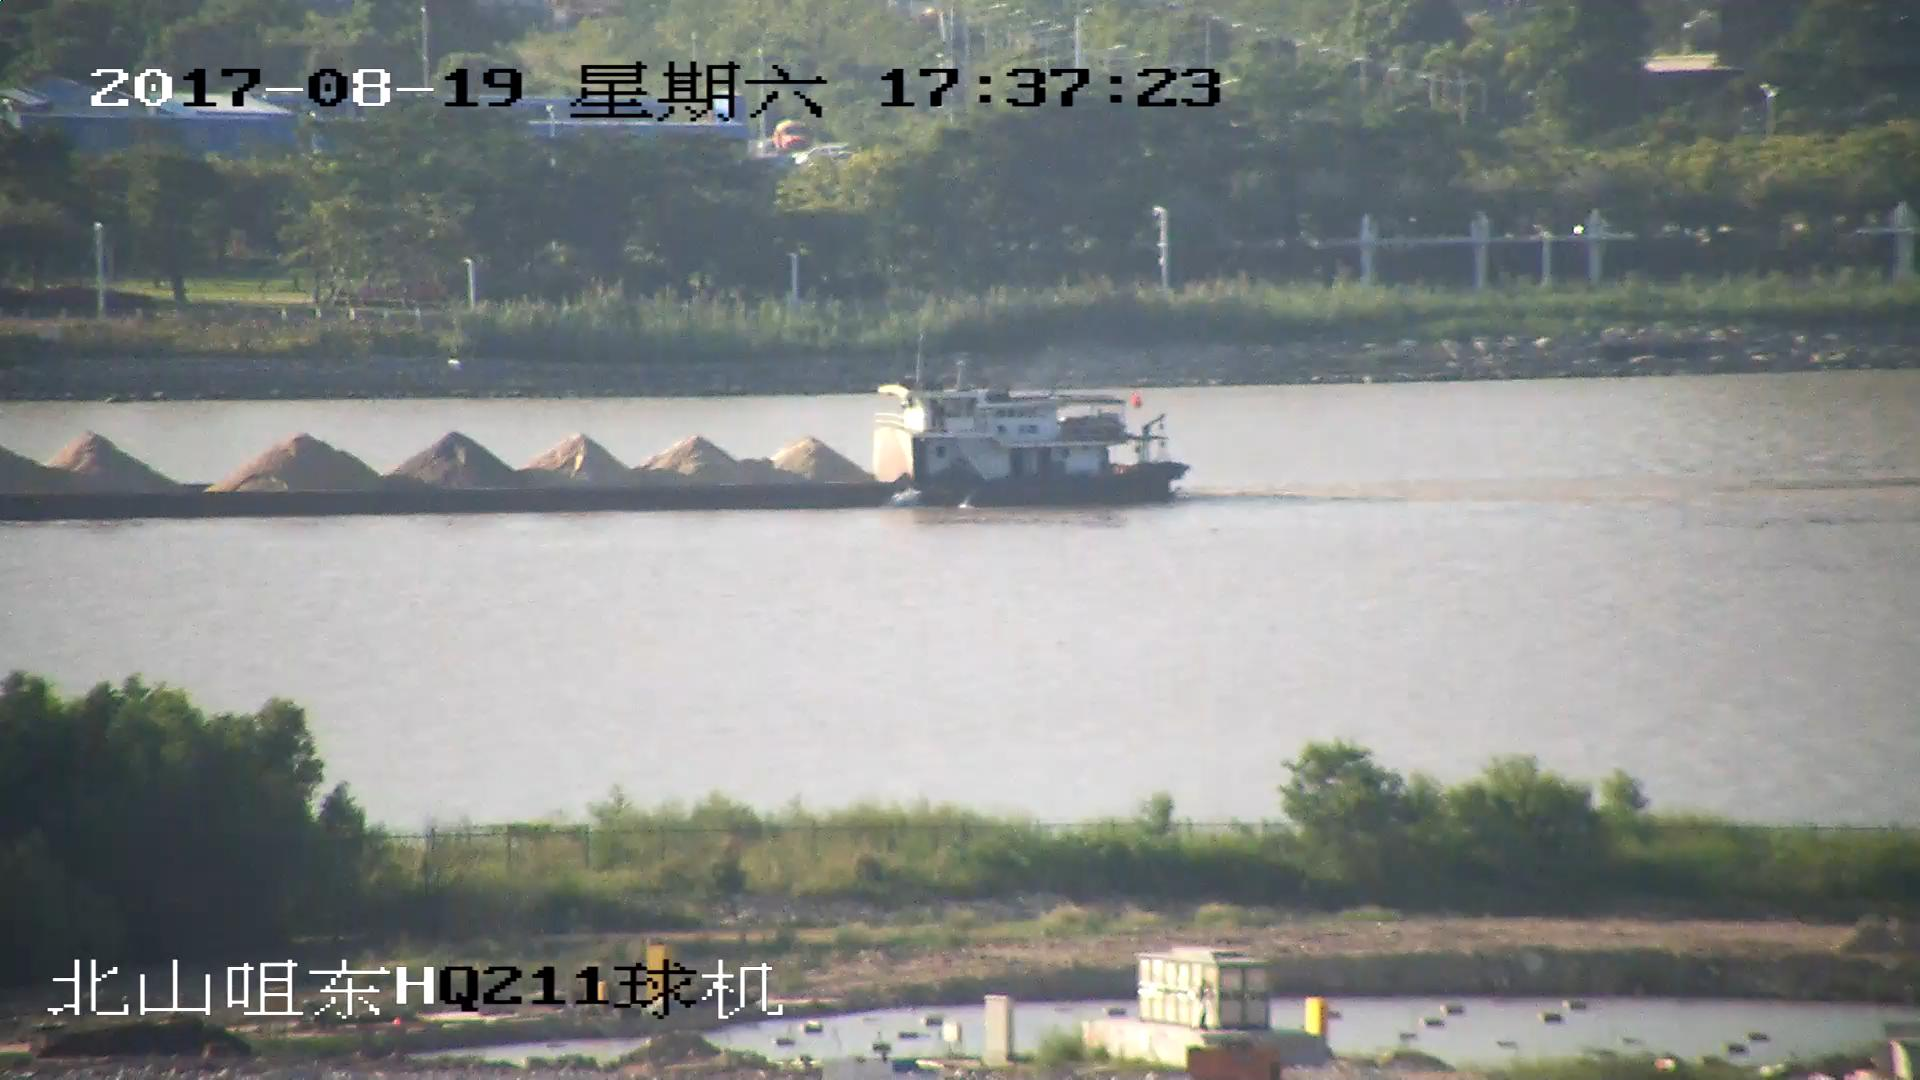ore carrier: (1, 351, 1196, 522)
